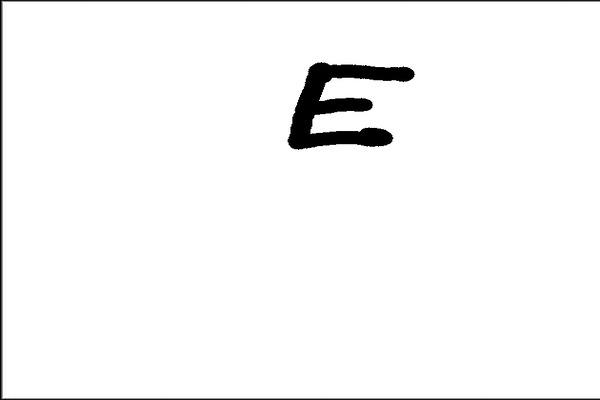E: (282, 58, 416, 150)
